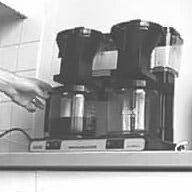not empty coffee: (41, 80, 102, 141)
